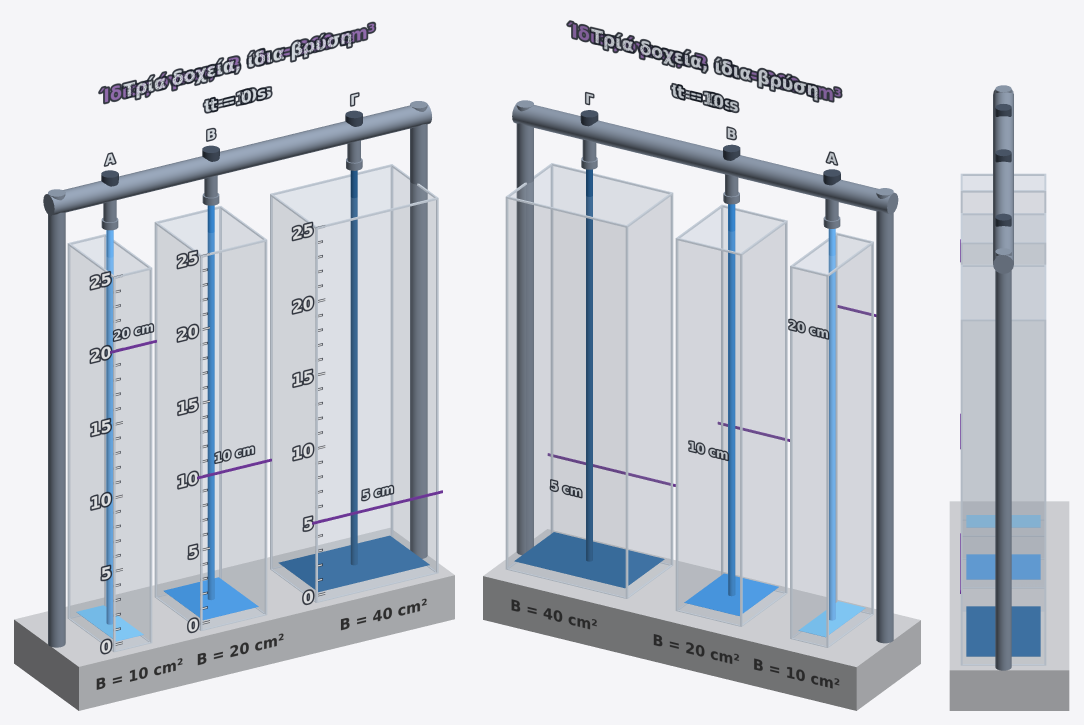
The model's file is docheia-nerou.glb.
The picture shows the model from 3 angles, left to right: view 1: azimuth 30°, elevation 25°; view 2: azimuth 150°, elevation 25°; view 3: azimuth 270°, elevation 25°; orthographic projection. The views are drawn at different scales.
Visible parts, largest first — view 1: stathera, kanones, nero_G, titlos_1, roi_G, roi_B, titlos_2, etiketes, roi_A, nero_B, nero_A; view 2: stathera, nero_G, titlos_1, roi_B, etiketes, roi_A, roi_G, nero_B, titlos_2, nero_A; view 3: stathera, nero_G, nero_B, nero_A.
Part boxes in pixels (x1=…): stathera: x1=14, y1=101, x2=454, y2=710; kanones: x1=89, y1=221, x2=325, y2=654; nero_G: x1=278, y1=535, x2=429, y2=592; titlos_1: x1=121, y1=30, x2=352, y2=100; roi_G: x1=350, y1=170, x2=357, y2=565; roi_B: x1=207, y1=205, x2=214, y2=600; titlos_2: x1=98, y1=21, x2=376, y2=104; etiketes: x1=96, y1=92, x2=426, y2=689; roi_A: x1=106, y1=230, x2=113, y2=624; nero_B: x1=163, y1=577, x2=258, y2=620; nero_A: x1=76, y1=605, x2=143, y2=641; stathera: x1=483, y1=100, x2=920, y2=710; nero_G: x1=514, y1=532, x2=664, y2=588; titlos_1: x1=589, y1=26, x2=819, y2=102; roi_B: x1=728, y1=204, x2=735, y2=596; etiketes: x1=511, y1=92, x2=839, y2=688; roi_A: x1=828, y1=228, x2=835, y2=620; roi_G: x1=586, y1=169, x2=592, y2=561; nero_B: x1=684, y1=573, x2=778, y2=615; titlos_2: x1=566, y1=20, x2=842, y2=102; nero_A: x1=798, y1=601, x2=865, y2=637; stathera: x1=949, y1=85, x2=1069, y2=710; nero_G: x1=966, y1=606, x2=1040, y2=656; nero_B: x1=966, y1=554, x2=1040, y2=579; nero_A: x1=966, y1=515, x2=1040, y2=527.
Size of the model in its own units: 0.269 by 0.405 by 0.0804.
11 materials, 2 textured.
